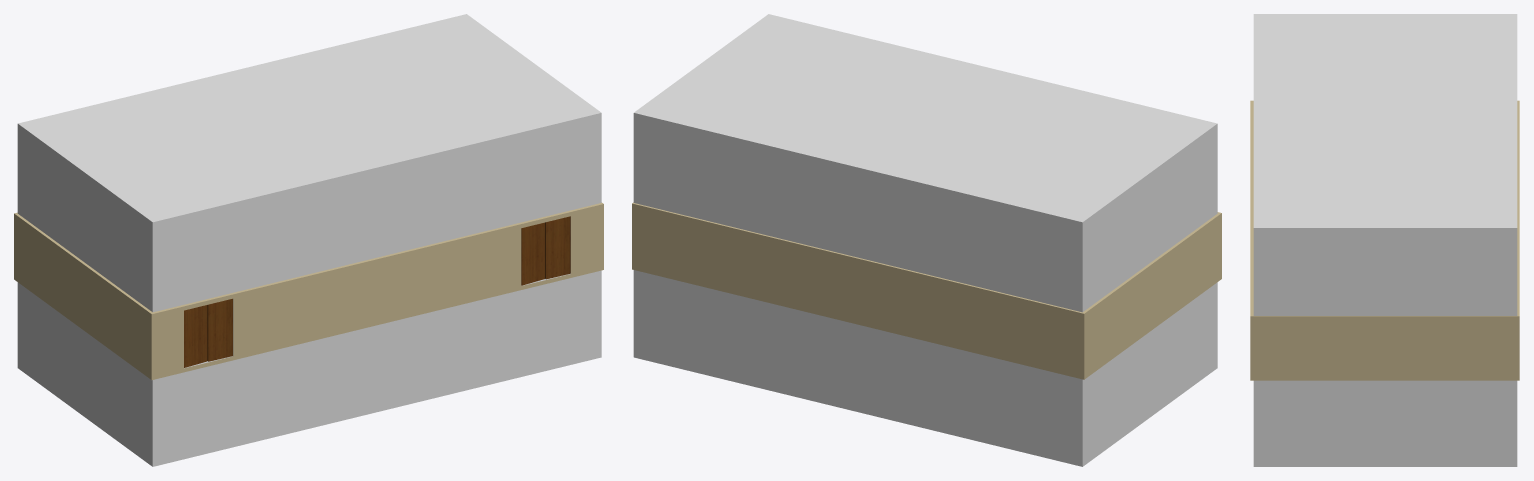
The model's file is museum.gltf.
The picture shows the model from 3 angles, left to right: view 1: azimuth 30°, elevation 25°; view 2: azimuth 150°, elevation 25°; view 3: azimuth 270°, elevation 25°; orthographic projection. The views are drawn at different scales.
Parts seen in each view (by area): view 1: boundingbox, Cube, Cube.006, Cube.004, Cube.005, Cube.003; view 2: boundingbox, Cube; view 3: boundingbox, Cube.
Boxes of the visible parts, box(x1,y1,x2,y2) form: boundingbox: box(17, 14, 601, 466); Cube: box(14, 202, 603, 379); Cube.006: box(545, 216, 570, 279); Cube.004: box(207, 298, 232, 361); Cube.005: box(521, 222, 544, 285); Cube.003: box(184, 305, 207, 367); boundingbox: box(633, 14, 1217, 466); Cube: box(632, 202, 1221, 379); boundingbox: box(1253, 14, 1517, 466); Cube: box(1250, 100, 1519, 380).
Bounding box in the file's own units: 33.73 × 17.44 × 17.8.
7 materials, 2 textured.
